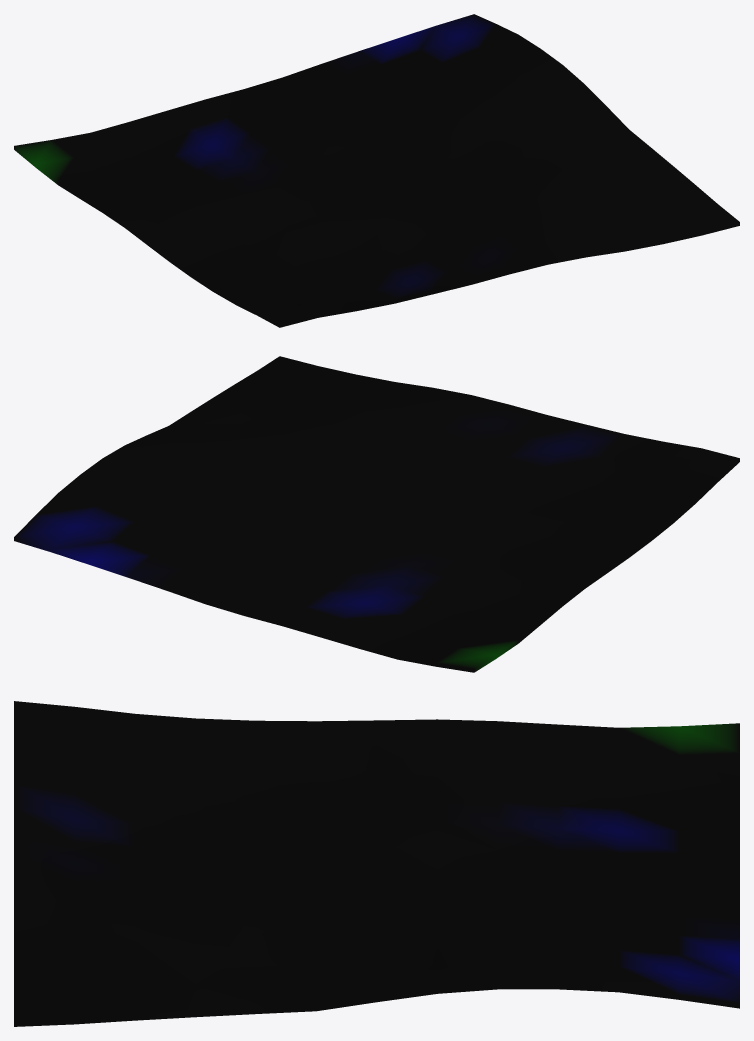
Rendered from coast_17_0.glb.
3 views of the same model, one above another, from view 1: azimuth 30°, elevation 25°; view 2: azimuth 150°, elevation 25°; view 3: azimuth 270°, elevation 25° (orthographic). The views are drawn at different scales.
Parts seen in each view (by area): view 1: terrain; view 2: terrain; view 3: terrain.
Boxes of the visible parts, x1,y1,x2,y2 form: terrain: (14, 14, 739, 327); terrain: (14, 356, 739, 672); terrain: (14, 701, 739, 1026).
Size of the model in its own units: 192 by 17.07 by 192.
